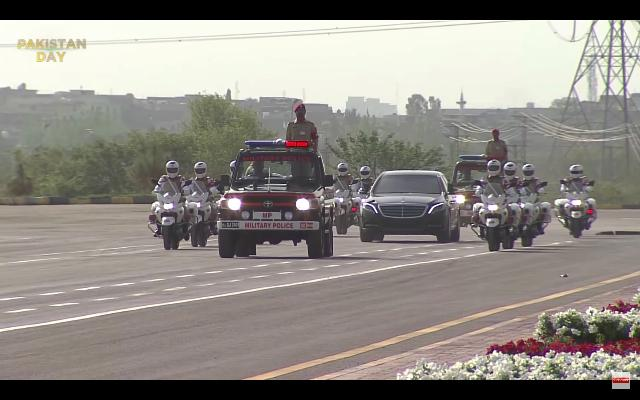plate: (220, 220, 240, 230)
